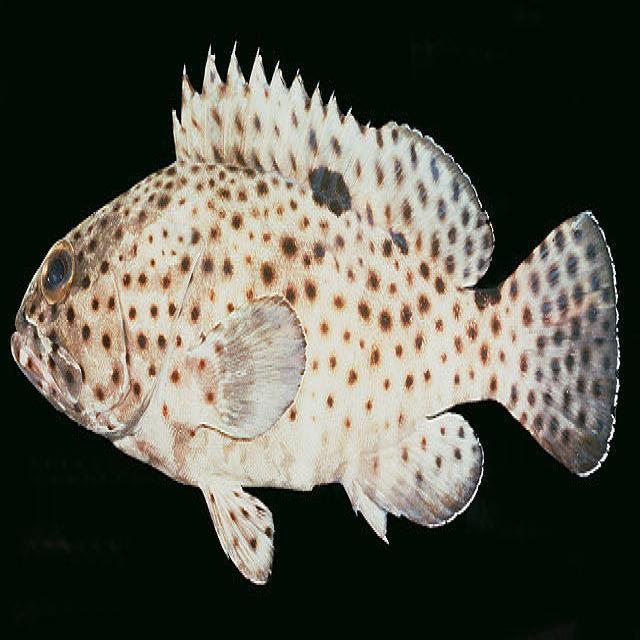ikan: (9, 37, 621, 587)
